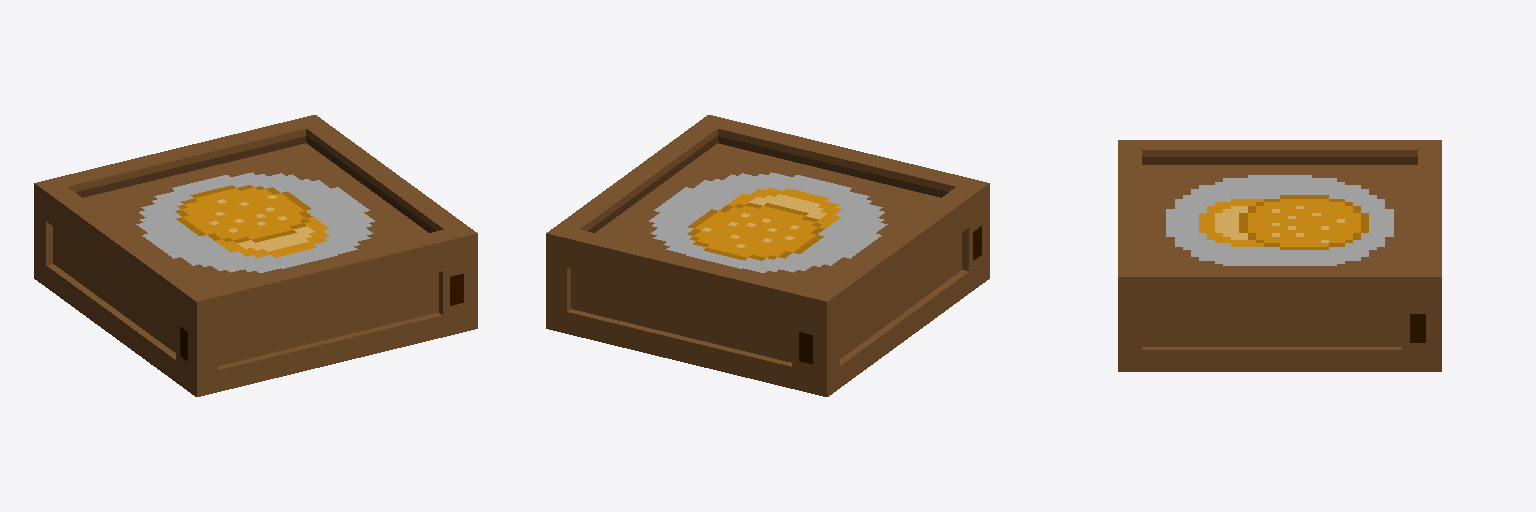
3 views of the same model, side by side, from view 1: azimuth 30°, elevation 25°; view 2: azimuth 150°, elevation 25°; view 3: azimuth 270°, elevation 25° (orthographic).
Parts seen in each view (by area): view 1: object 1; view 2: object 1; view 3: object 1.
Part boxes in pixels (x1,y1,x2,y2): object 1: (34,115,477,396); object 1: (546,115,989,396); object 1: (1118,140,1441,371).
Bounding box in the file's own units: 4 × 1.3 × 4.
Materials: 1 (1 with a texture image).